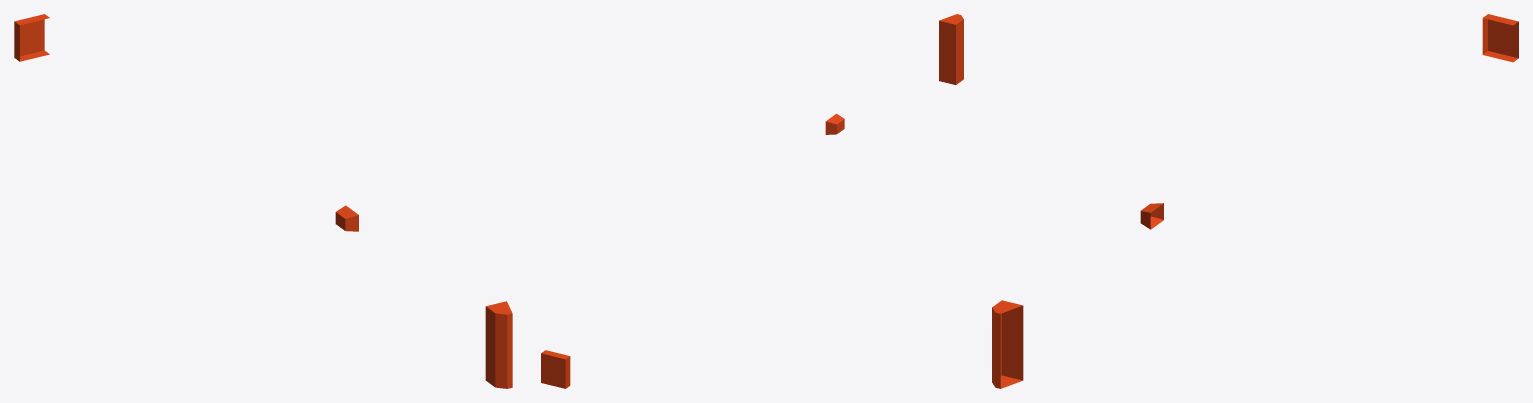
Rendered from Car1TurnSignalsL.fbx.
3 views of the same model, side by side, from view 1: azimuth 30°, elevation 25°; view 2: azimuth 150°, elevation 25°; view 3: azimuth 330°, elevation 25° (orthographic). The views are drawn at different scales.
Parts seen in each view (by area): view 1: Car1TurnSignalsL; view 2: Car1TurnSignalsL; view 3: Car1TurnSignalsL.
Part boxes in pixels (<box>): Car1TurnSignalsL: <box>14,14,512,388</box>; Car1TurnSignalsL: <box>541,14,963,388</box>; Car1TurnSignalsL: <box>992,14,1518,388</box>.
Bounding box in the file's own units: 0.1856 × 0.4897 × 4.31.
